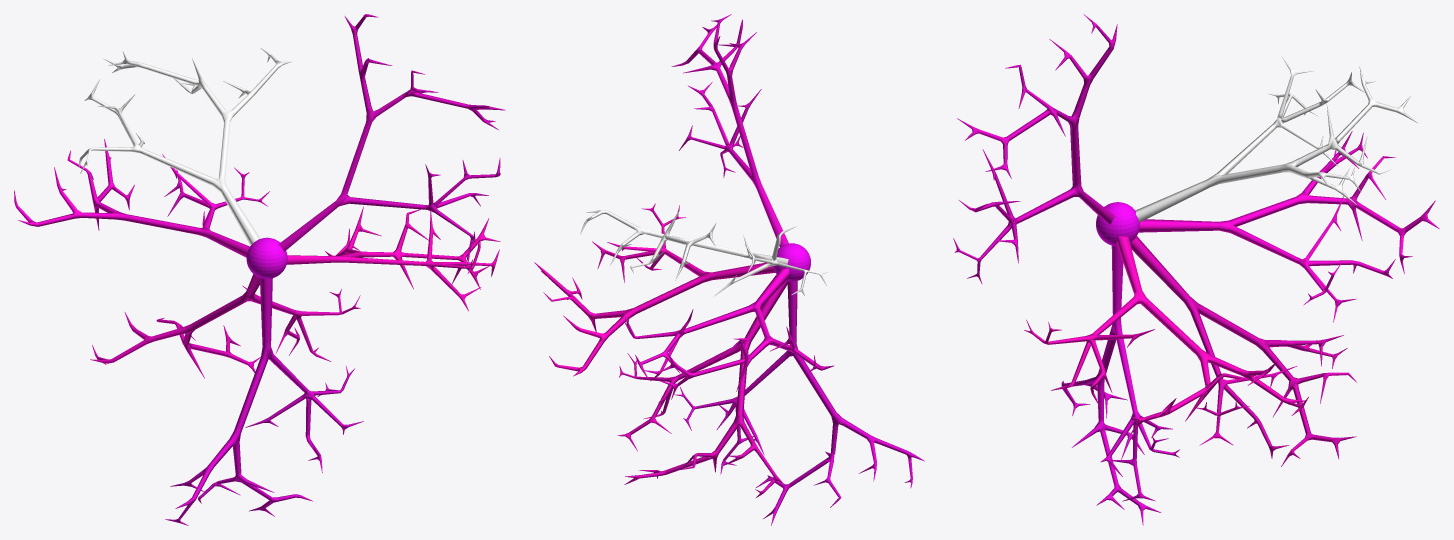
File: asset.glb
The picture shows the model from 3 angles, left to right: view 1: azimuth 30°, elevation 25°; view 2: azimuth 150°, elevation 25°; view 3: azimuth 270°, elevation 25°; orthographic projection. The views are drawn at different scales.
Parts seen in each view (by area): view 1: Plane.006, Plane.002, Plane, Plane.005, Plane.003, Plane.001, Sphere; view 2: Plane.006, Plane.003, Plane.001, Plane.002, Plane.005, Plane, Sphere; view 3: Plane.005, Plane, Plane.001, Plane.003, Plane.002, Plane.006, Sphere.
Part boxes in pixels (x1,y1,x2,y2): Plane.006: [165, 278, 363, 525]; Plane.002: [279, 14, 505, 264]; Plane: [79, 48, 291, 245]; Plane.005: [14, 139, 269, 257]; Plane.003: [286, 206, 500, 311]; Plane.001: [90, 274, 360, 378]; Sphere: [246, 237, 287, 278]; Plane.006: [674, 281, 924, 525]; Plane.003: [534, 203, 775, 376]; Plane.001: [617, 280, 789, 497]; Plane.002: [671, 14, 788, 246]; Plane.005: [624, 268, 834, 399]; Plane: [580, 209, 828, 296]; Sphere: [773, 243, 810, 281]; Plane.005: [1138, 131, 1439, 322]; Plane: [1135, 57, 1417, 222]; Plane.001: [1130, 236, 1356, 466]; Plane.003: [1024, 236, 1308, 434]; Plane.002: [953, 14, 1117, 283]; Plane.006: [1061, 245, 1179, 525]; Sphere: [1096, 202, 1139, 246].
Size of the model in its own units: 4.45 by 5.4 by 4.38.
